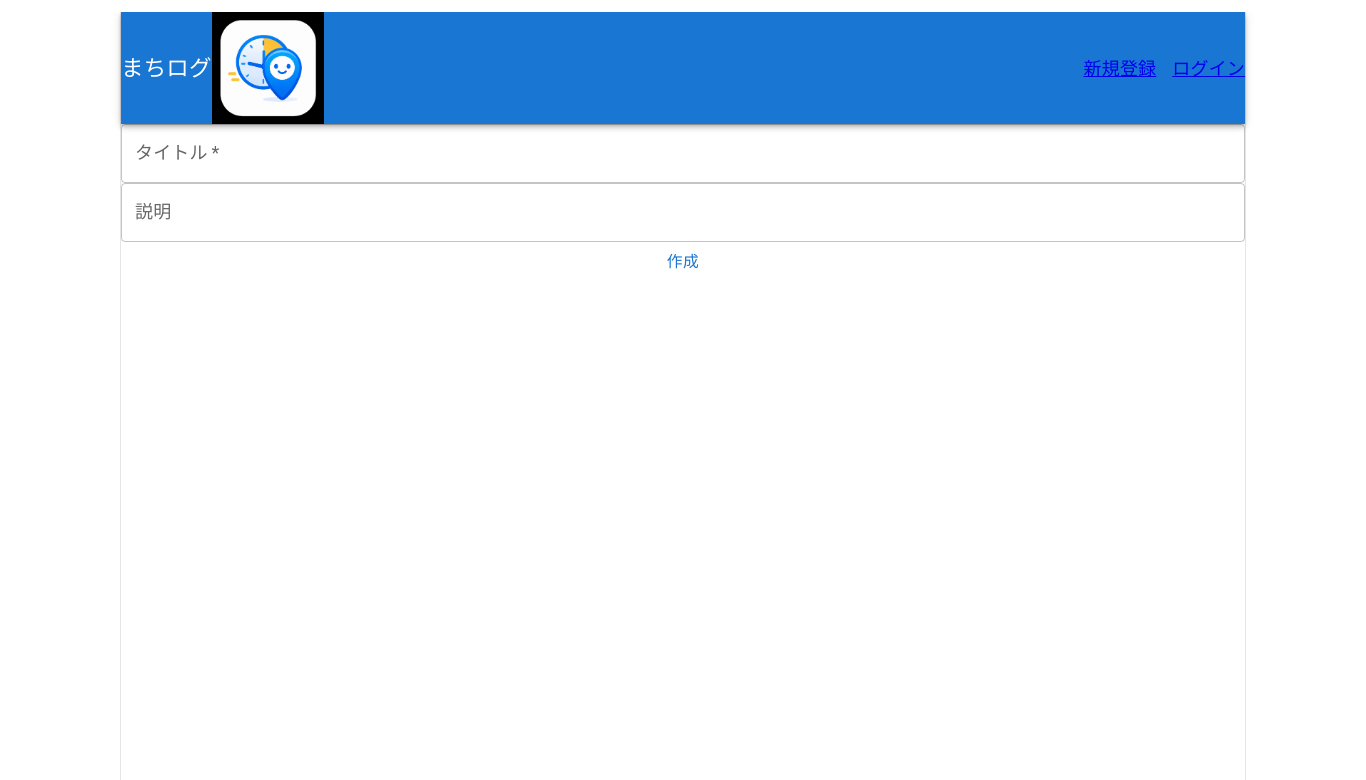
it: 作成 › 入力項目がエラーの時に作成ボタンをクリックすると、エラーが表示される
What coordinates should you click on to do the following:
click the button "作成"
I would click on:
 (683, 262)
Its box is top-left (121, 242), bottom-right (1245, 282).
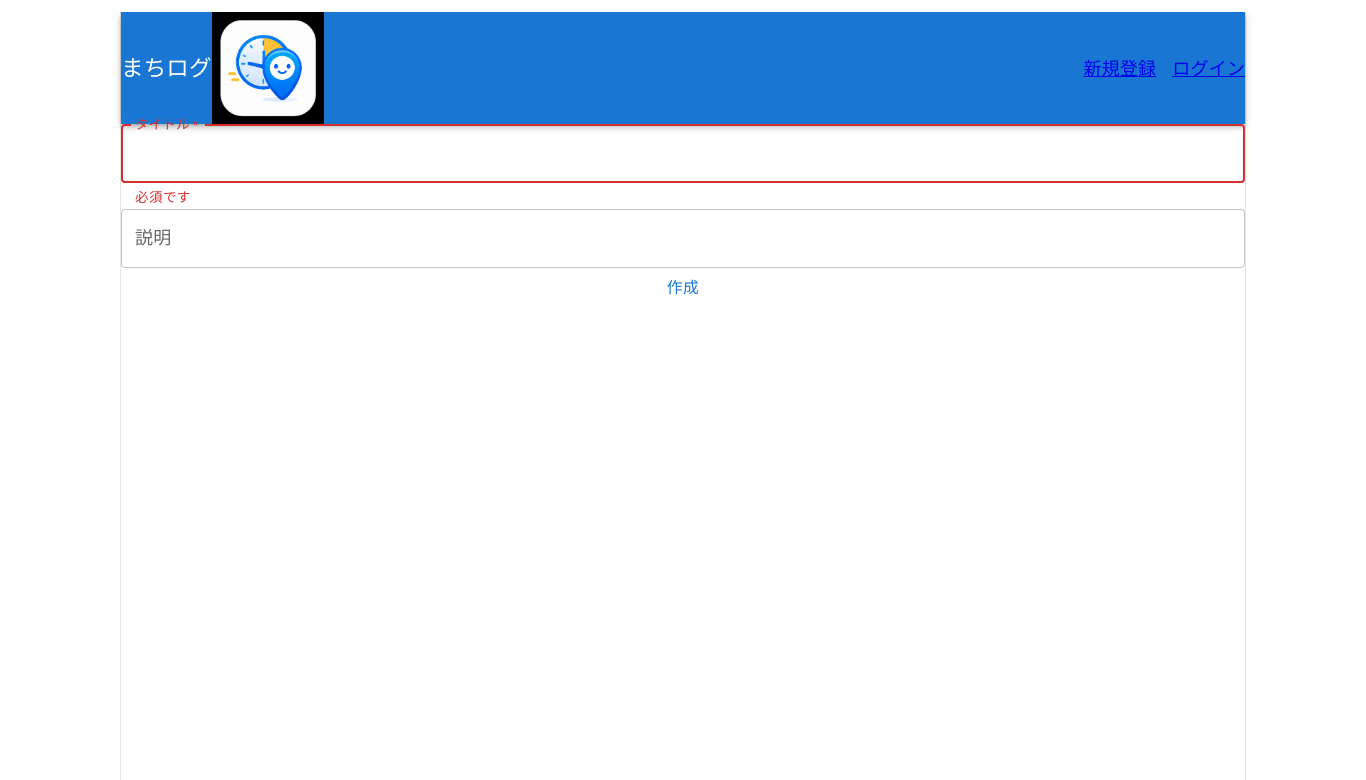
expect the text "必須です" is shown: met, box top-left (135, 189), bottom-right (191, 205)
